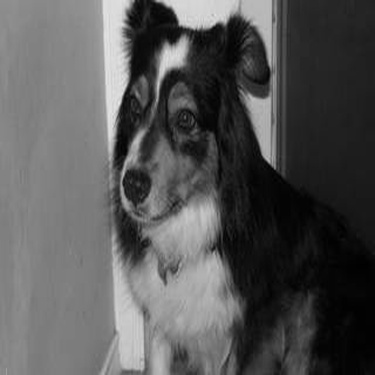dog: (96, 1, 370, 371)
